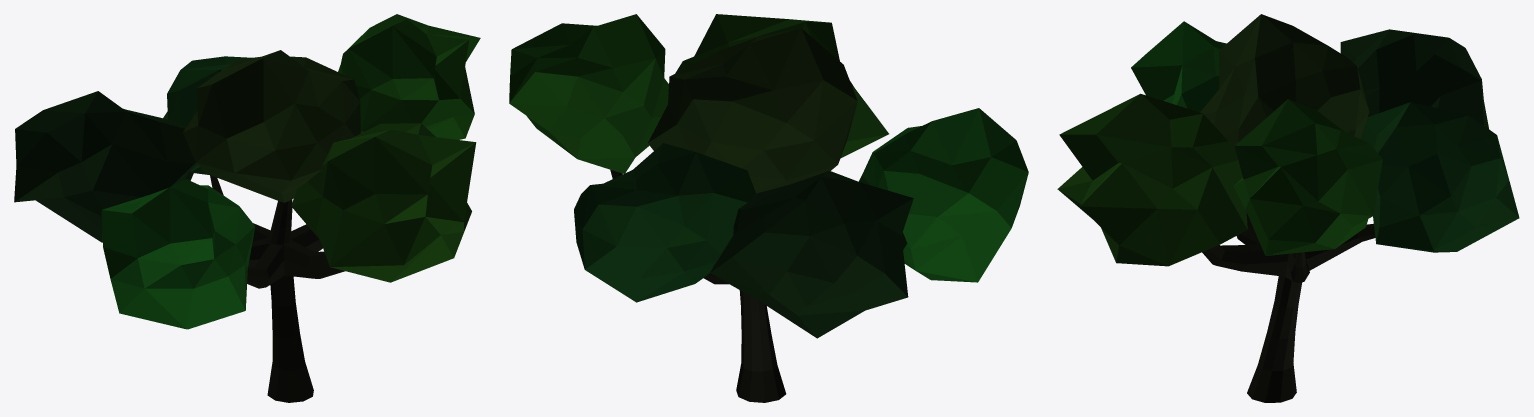
File: giant_low_poly_tree.obj
3 views of the same model, side by side, from view 1: azimuth 30°, elevation 25°; view 2: azimuth 150°, elevation 25°; view 3: azimuth 270°, elevation 25° (orthographic). The views are drawn at different scales.
Visible parts, largest first — view 1: obj6, obj2, obj4, obj3, obj5, obj1, obj7; view 2: obj3, obj2, obj7, obj4, obj5, obj6, obj1; view 3: obj6, obj7, obj5, obj2, obj3, obj1, obj4.
Part boxes in pixels (left/top/right/bottom): obj6: left=291, top=123, right=476, bottom=282; obj2: left=183, top=50, right=360, bottom=202; obj4: left=101, top=179, right=255, bottom=329; obj3: left=14, top=91, right=197, bottom=242; obj5: left=338, top=14, right=480, bottom=139; obj1: left=210, top=175, right=344, bottom=402; obj7: left=163, top=56, right=252, bottom=174; obj3: left=710, top=170, right=913, bottom=338; obj2: left=648, top=28, right=857, bottom=193; obj7: left=574, top=143, right=755, bottom=302; obj4: left=859, top=108, right=1028, bottom=282; obj5: left=509, top=14, right=668, bottom=173; obj6: left=675, top=14, right=888, bottom=158; obj1: left=610, top=170, right=786, bottom=402; obj6: left=1057, top=93, right=1247, bottom=266; obj7: left=1361, top=102, right=1519, bottom=252; obj5: left=1233, top=99, right=1382, bottom=255; obj2: left=1200, top=14, right=1369, bottom=149; obj3: left=1340, top=29, right=1488, bottom=128; obj1: left=1202, top=213, right=1375, bottom=402; obj4: left=1131, top=21, right=1226, bottom=112.
Bounding box in the file's own units: 16.52 × 13.02 × 15.05.
